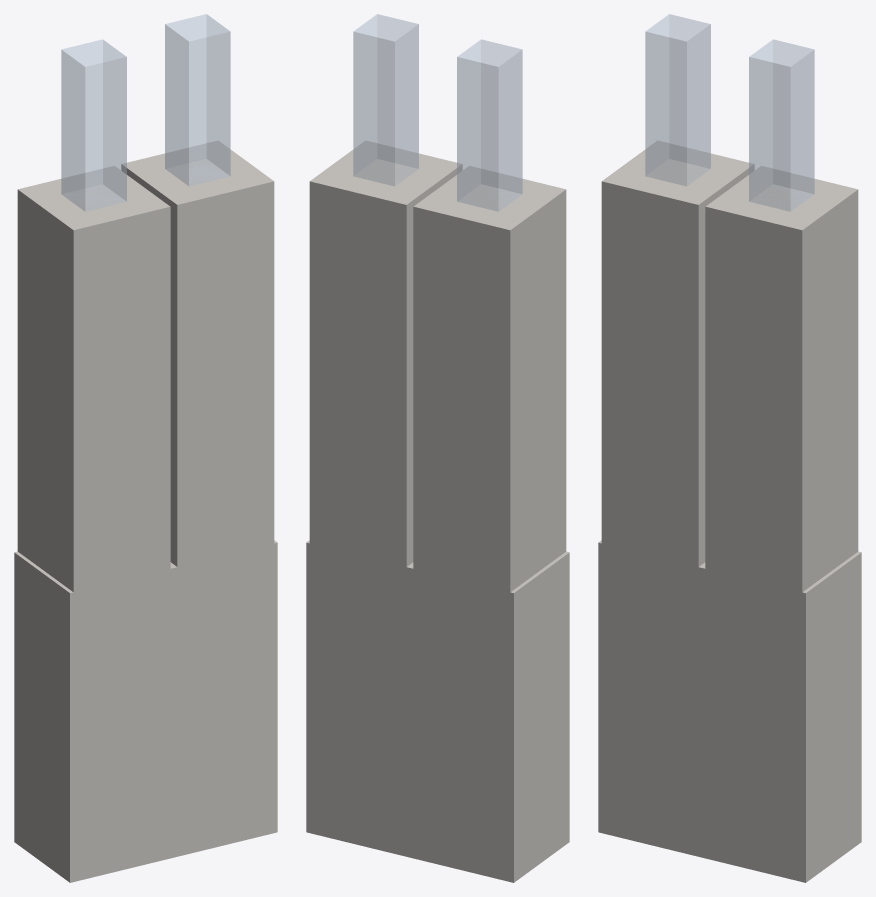
The model's file is tokyo_government.glb.
The picture shows the model from 3 angles, left to right: view 1: azimuth 30°, elevation 25°; view 2: azimuth 150°, elevation 25°; view 3: azimuth 330°, elevation 25°; orthographic projection.
Visible parts, largest first — view 1: Cube, Cube.002, Cube.004, Cube.001, Cube.003; view 2: Cube, Cube.002, Cube.004, Cube.001, Cube.003; view 3: Cube.002, Cube, Cube.004, Cube.003, Cube.001.
Boxes of the visible parts, left/top/right/bottom form: Cube: left=17, top=166, right=170, bottom=881; Cube.002: left=121, top=140, right=274, bottom=856; Cube.004: left=14, top=540, right=277, bottom=882; Cube.001: left=61, top=39, right=126, bottom=211; Cube.003: left=165, top=14, right=230, bottom=186; Cube: left=413, top=166, right=566, bottom=881; Cube.002: left=309, top=140, right=462, bottom=856; Cube.004: left=306, top=540, right=569, bottom=882; Cube.001: left=457, top=39, right=522, bottom=211; Cube.003: left=353, top=14, right=418, bottom=186; Cube.002: left=705, top=166, right=858, bottom=881; Cube: left=601, top=140, right=754, bottom=856; Cube.004: left=598, top=540, right=861, bottom=882; Cube.003: left=749, top=39, right=814, bottom=211; Cube.001: left=645, top=14, right=710, bottom=186.
Bounding box in the file's own units: 60 × 220 × 28.
